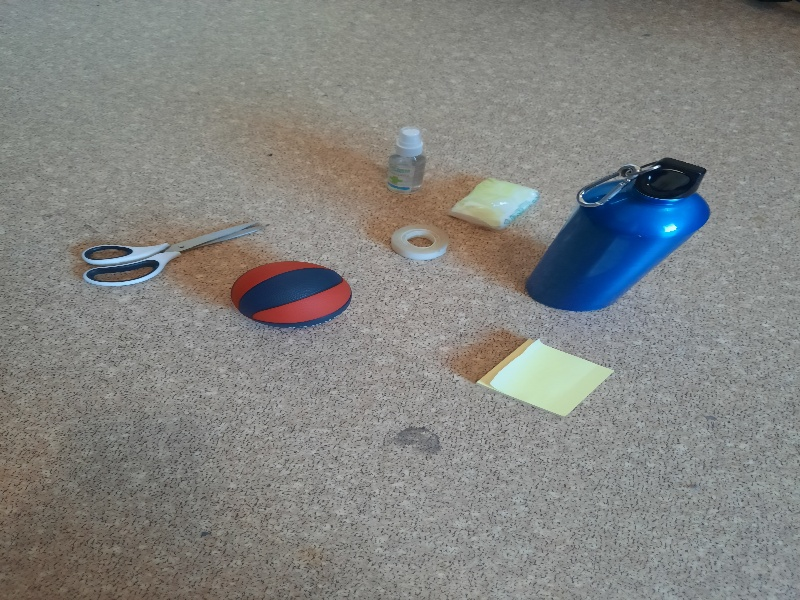ballon: (232, 260, 348, 328)
ciseaux: (73, 221, 266, 290)
gel: (383, 126, 431, 194)
gourde: (523, 158, 715, 312)
mouchoirs: (449, 177, 542, 232)
post-it: (473, 338, 618, 418)
scotch: (388, 225, 448, 261)
